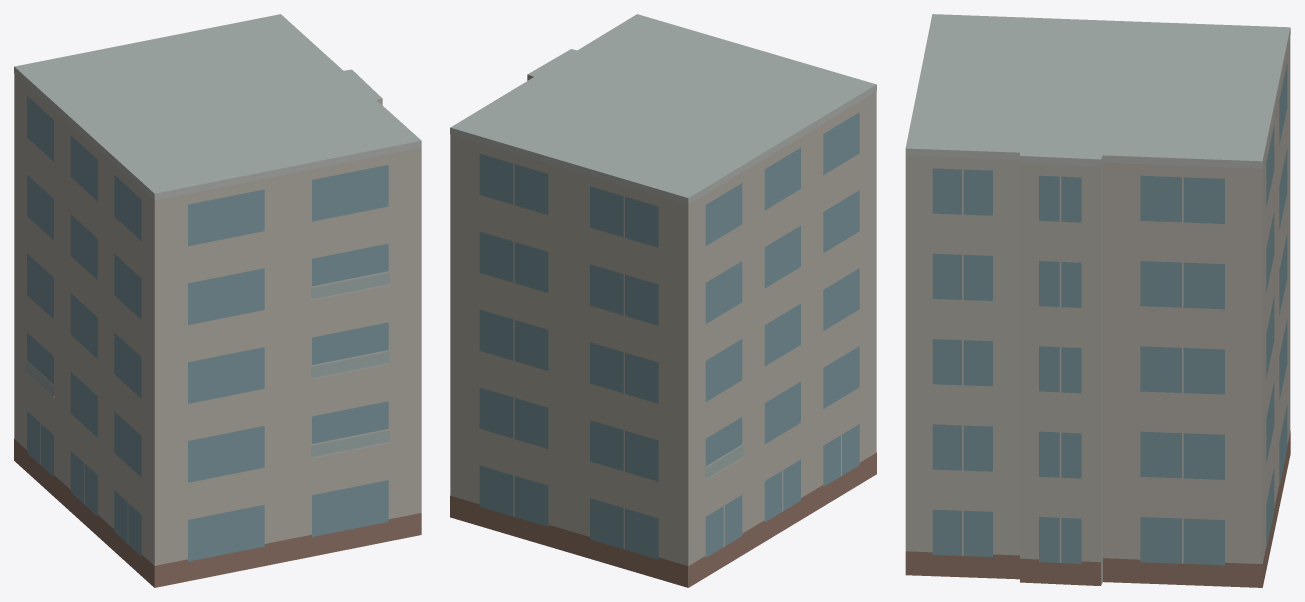
The model's file is survey-upis-32548288.glb.
3 renders of one model, left to right at view 1: azimuth 30°, elevation 25°; view 2: azimuth 150°, elevation 25°; view 3: azimuth 270°, elevation 25°, orthographic. The views are drawn at different scales.
Visible parts, largest first — view 1: survey-upis-32548288.tmp; view 2: survey-upis-32548288.tmp; view 3: survey-upis-32548288.tmp.
Part boxes in pixels (x1=…): survey-upis-32548288.tmp: x1=14, y1=14, x2=421, y2=587; survey-upis-32548288.tmp: x1=450, y1=14, x2=876, y2=587; survey-upis-32548288.tmp: x1=905, y1=14, x2=1290, y2=587.
Bounding box in the file's own units: 10.54 × 14.23 × 11.65.
